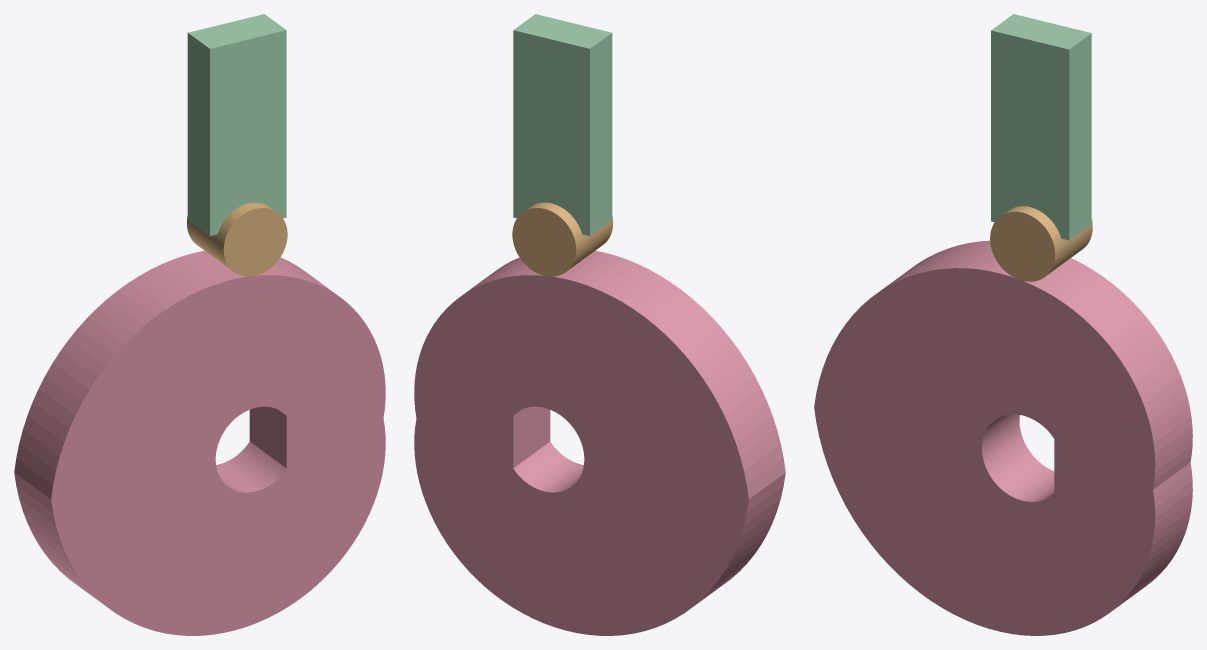
File: heart_cam_demo.glb
3 views of the same model, side by side, from view 1: azimuth 30°, elevation 25°; view 2: azimuth 150°, elevation 25°; view 3: azimuth 330°, elevation 25° (orthographic).
Visible parts, largest first — view 1: heart_cam, follower_stem, roller; view 2: heart_cam, follower_stem, roller; view 3: heart_cam, follower_stem, roller.
Part boxes in pixels (x1,y1,x2,y2): heart_cam: [14, 250, 385, 635]; follower_stem: [187, 14, 286, 235]; roller: [187, 202, 287, 276]; heart_cam: [414, 250, 785, 635]; follower_stem: [513, 14, 612, 235]; roller: [512, 202, 612, 276]; heart_cam: [814, 240, 1192, 635]; follower_stem: [991, 14, 1091, 240]; roller: [990, 206, 1092, 281].
Bounding box in the file's own units: 26.18 × 43.39 × 5.
